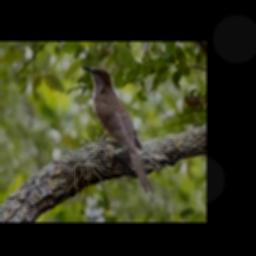Cuckoo: (82, 65, 154, 196)
